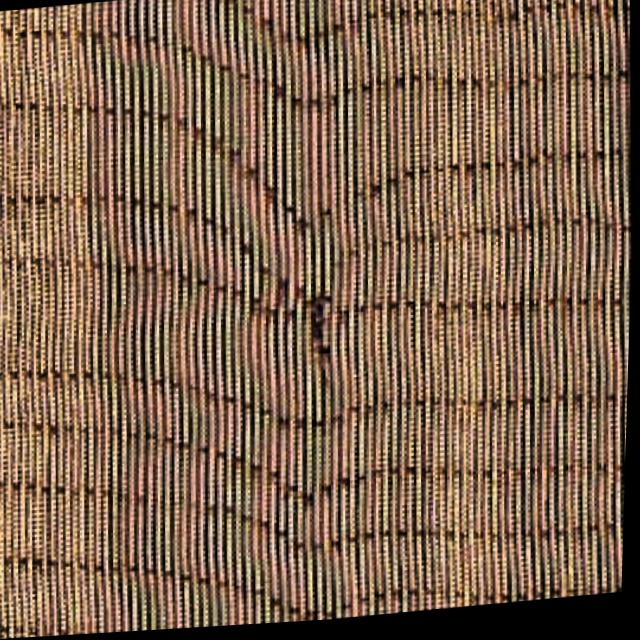Stitch: (202, 225, 428, 390)
